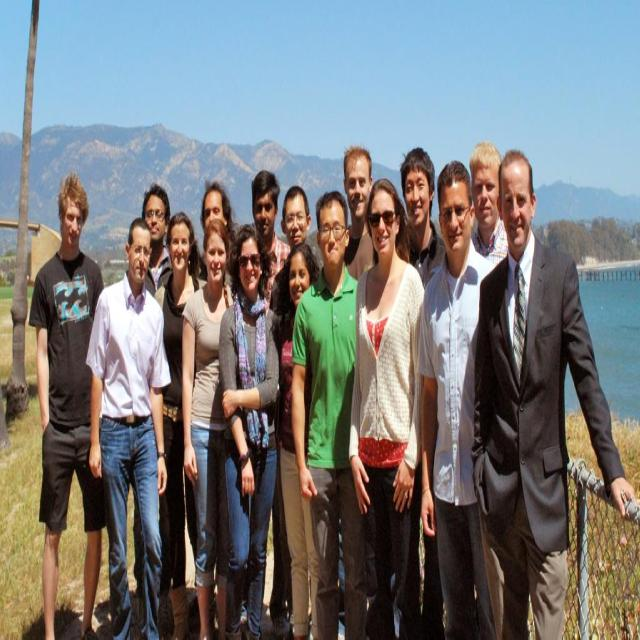Face: (503, 140, 545, 250), (441, 155, 478, 260), (473, 132, 510, 234), (316, 193, 350, 275), (405, 149, 439, 230), (368, 185, 400, 253), (60, 184, 90, 256), (283, 245, 314, 314), (349, 149, 377, 224), (236, 231, 263, 297), (171, 212, 195, 277), (285, 189, 312, 246), (252, 182, 279, 236), (203, 225, 226, 280), (129, 226, 149, 286), (143, 195, 166, 246), (205, 190, 225, 238)
